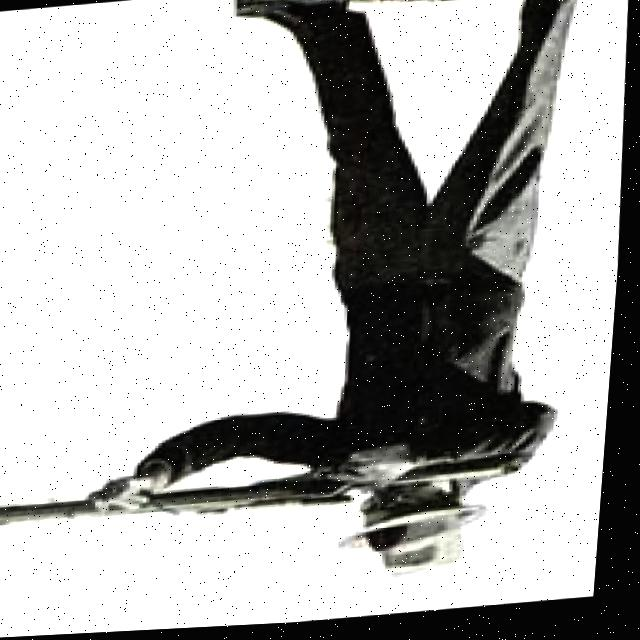firearm: (0, 459, 520, 536)
